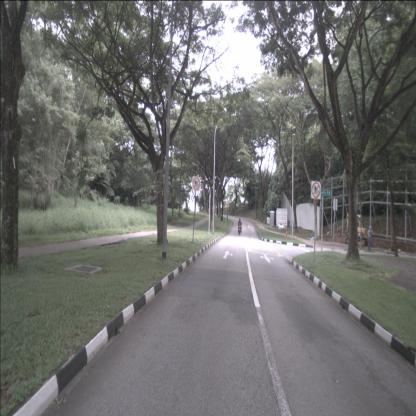human-pedestrian-adult: (366, 226, 372, 252)
vehicle-motorcycle: (237, 218, 242, 236)
